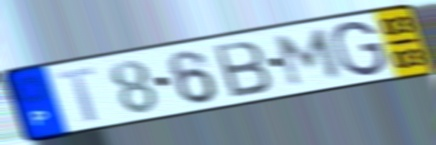6: (166, 48, 219, 106)
8: (108, 57, 160, 117)
B: (210, 38, 275, 100)
G: (330, 19, 390, 79)
M: (274, 26, 345, 89)
T: (54, 65, 100, 125)
